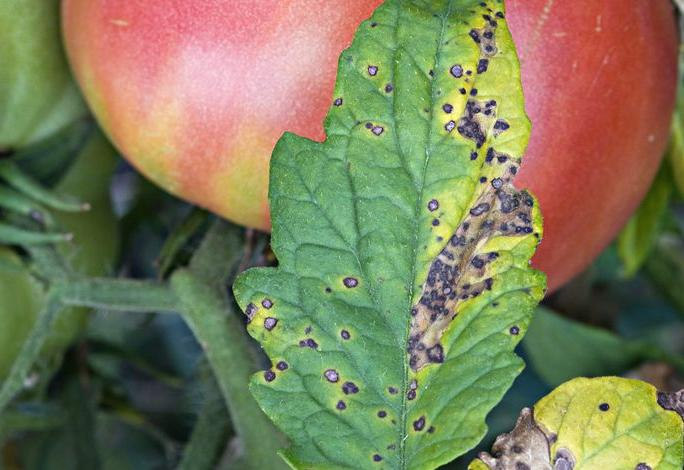Tomato Septoria leaf spot: (260, 0, 556, 470), (440, 374, 684, 470)
